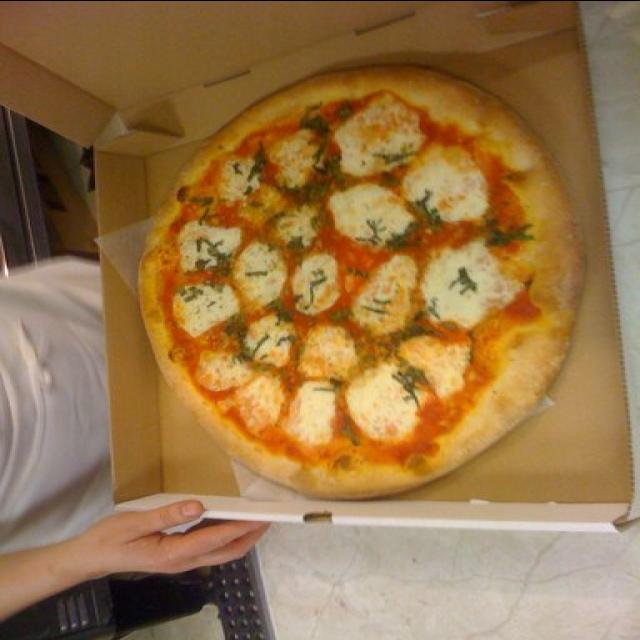pizza: (138, 63, 581, 496)
